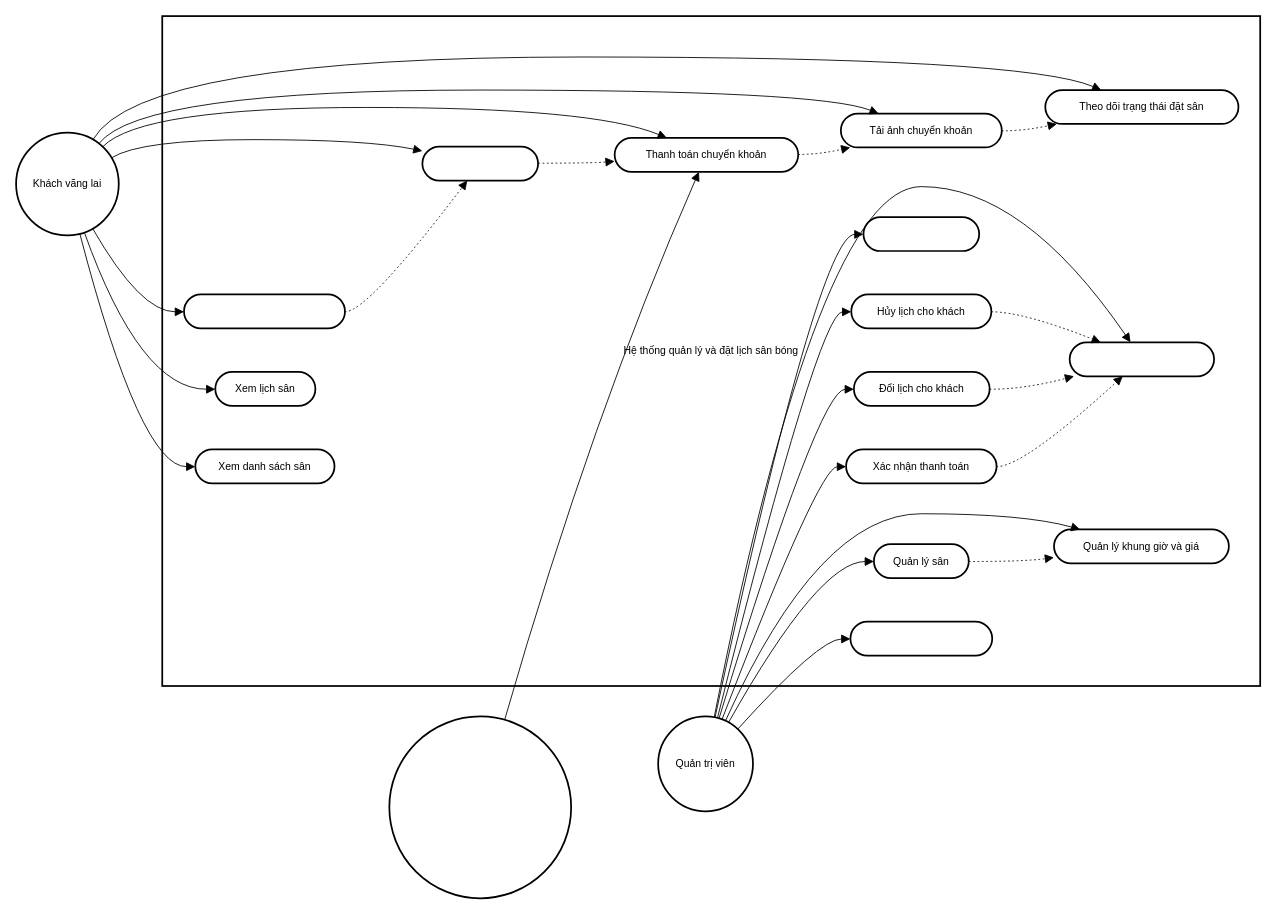
Image size: 1275x914. Some labels were removed from this diagram. Each missing label, with the centre of its shape:
Chọn sân và khung giờ: the point at 264,311
Ghi lịch sử thao tác: the point at 1141,359
Giữ chỗ 5 phút: the point at 480,163
Ngân hàng / Chuyển khoản: the point at 480,807
Xem doanh thu: the point at 921,233
Đăng nhập quản trị: the point at 921,638
